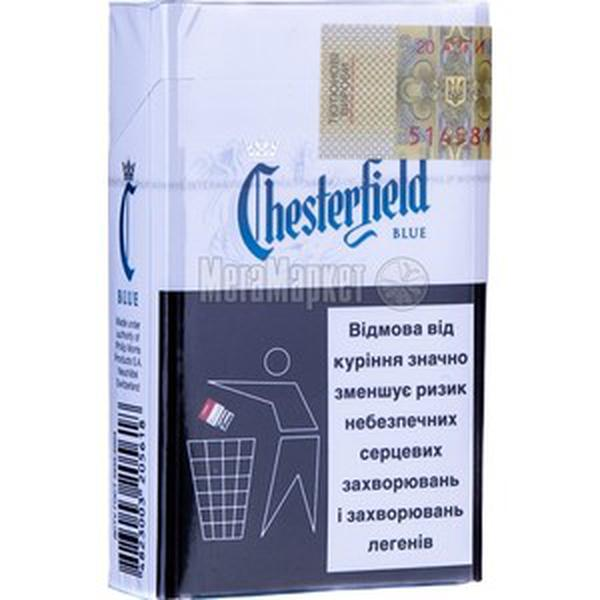chesterfield_blue: (170, 7, 490, 577)
